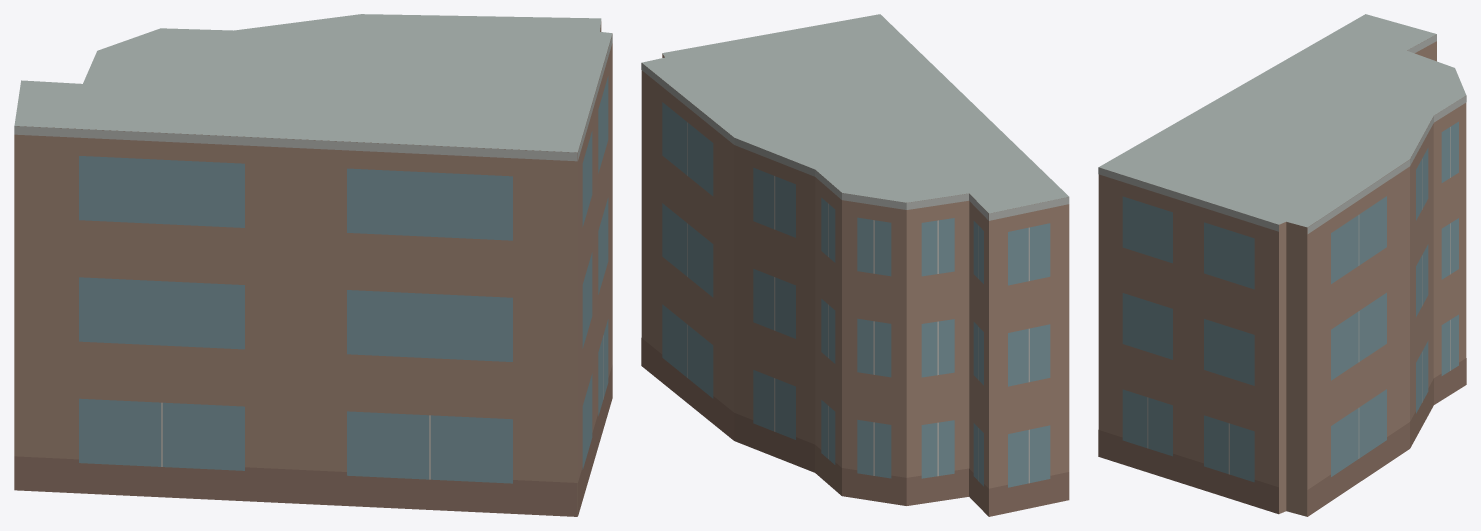
File: survey-upis-32615139.glb
3 renders of one model, left to right at view 1: azimuth 30°, elevation 25°; view 2: azimuth 150°, elevation 25°; view 3: azimuth 270°, elevation 25°, orthographic. The views are drawn at different scales.
Visible parts, largest first — view 1: survey-upis-32615139.tmp; view 2: survey-upis-32615139.tmp; view 3: survey-upis-32615139.tmp.
Boxes of the visible parts, left/top/right/bottom form: survey-upis-32615139.tmp: left=14, top=14, right=612, bottom=516; survey-upis-32615139.tmp: left=641, top=14, right=1069, bottom=516; survey-upis-32615139.tmp: left=1098, top=14, right=1466, bottom=516.
Size of the model in its own units: 15.98 by 10.1 by 11.65.
